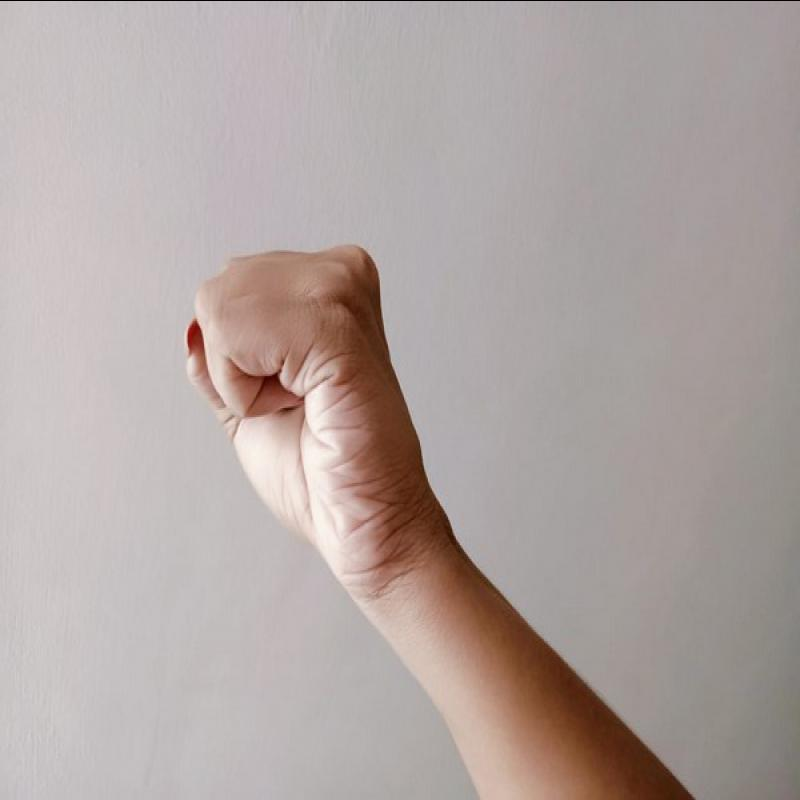Mushti: (166, 216, 439, 580)
